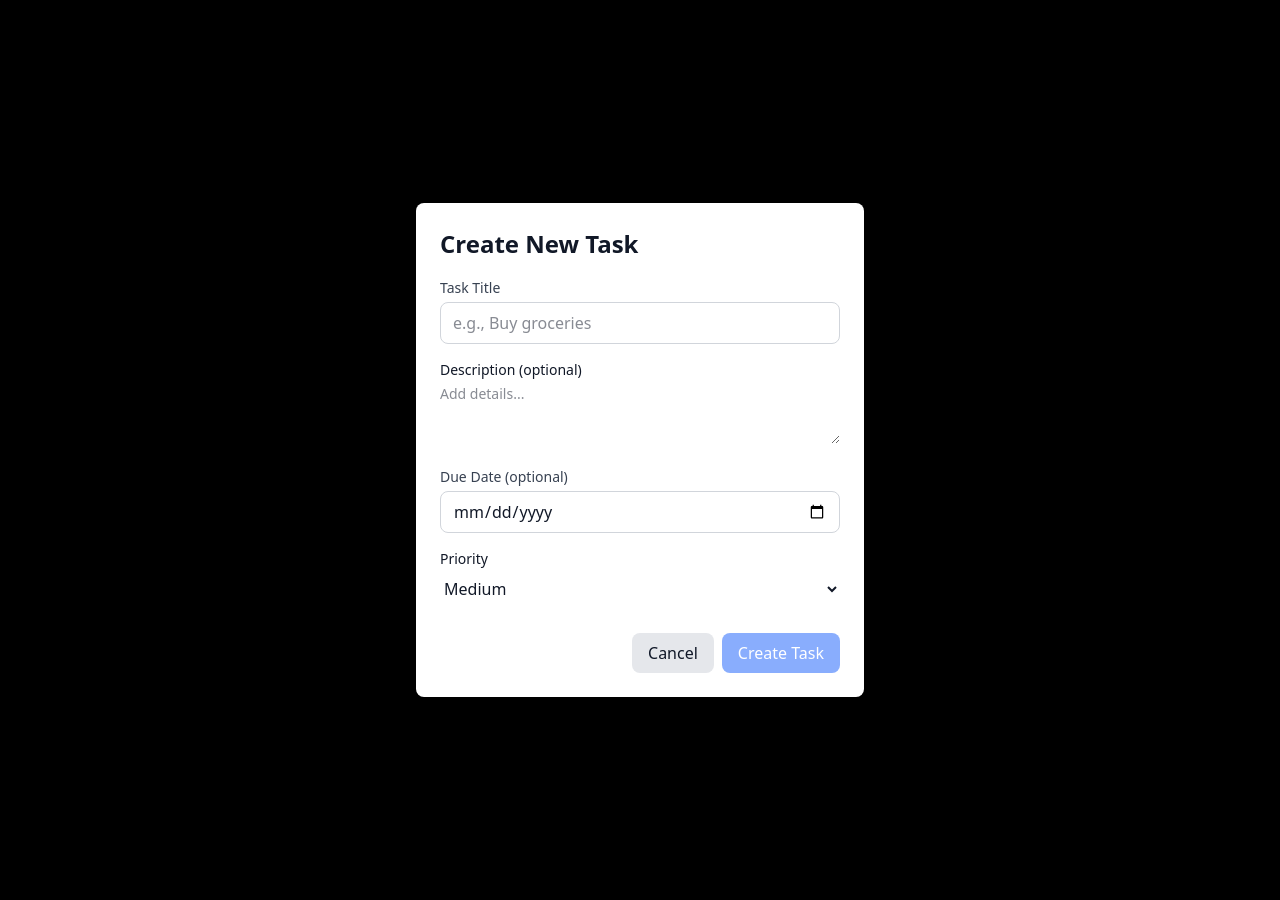
Test: CreateTaskForm › submit button is enabled when title is filled
The width and height of the screenshot is (1280, 900).
Type "Test Task" into the field with placeholder "e.g., Buy groceries" at (640, 323), box [440, 302, 840, 344]
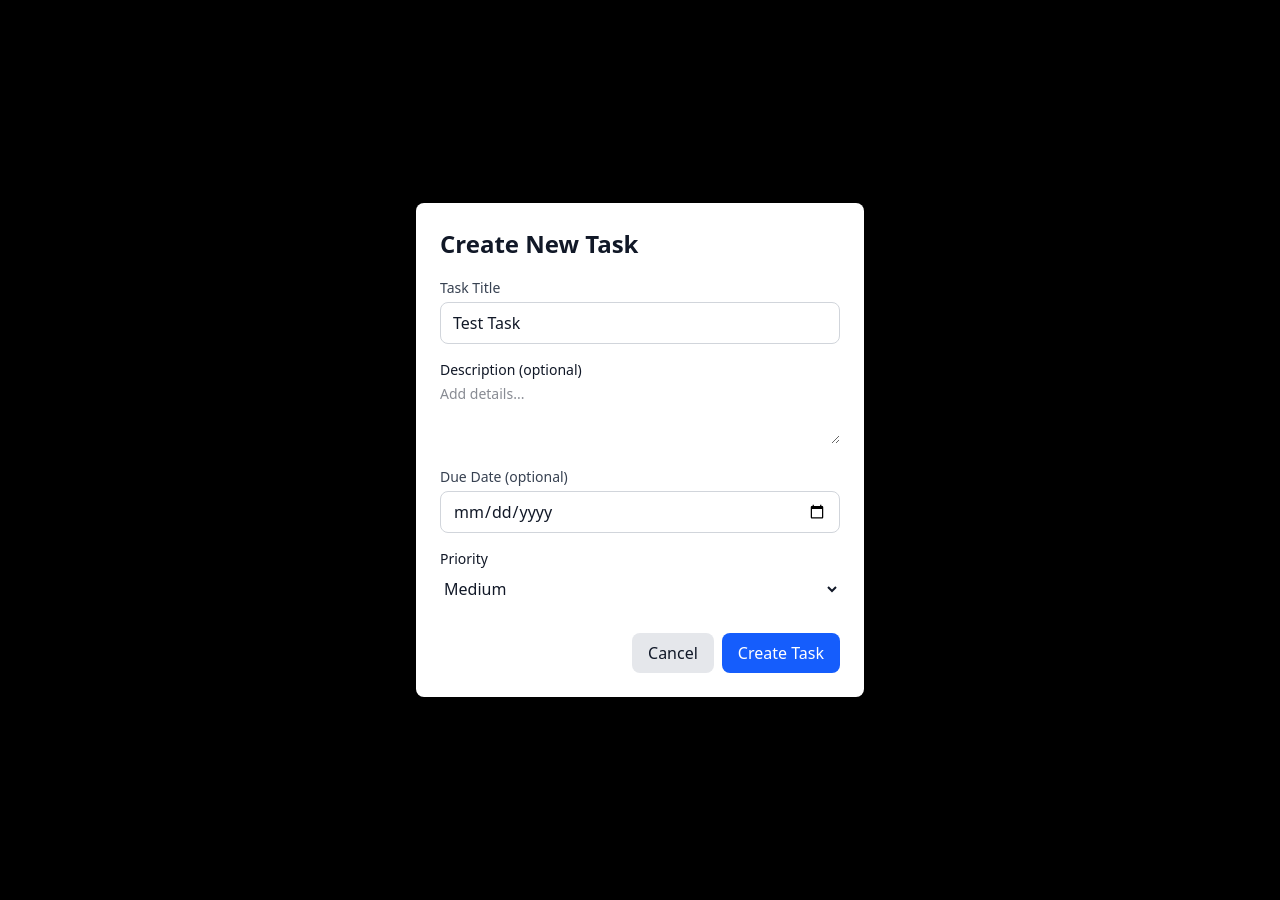
Result: the button "Create Task" is enabled at [722, 633, 840, 673]
